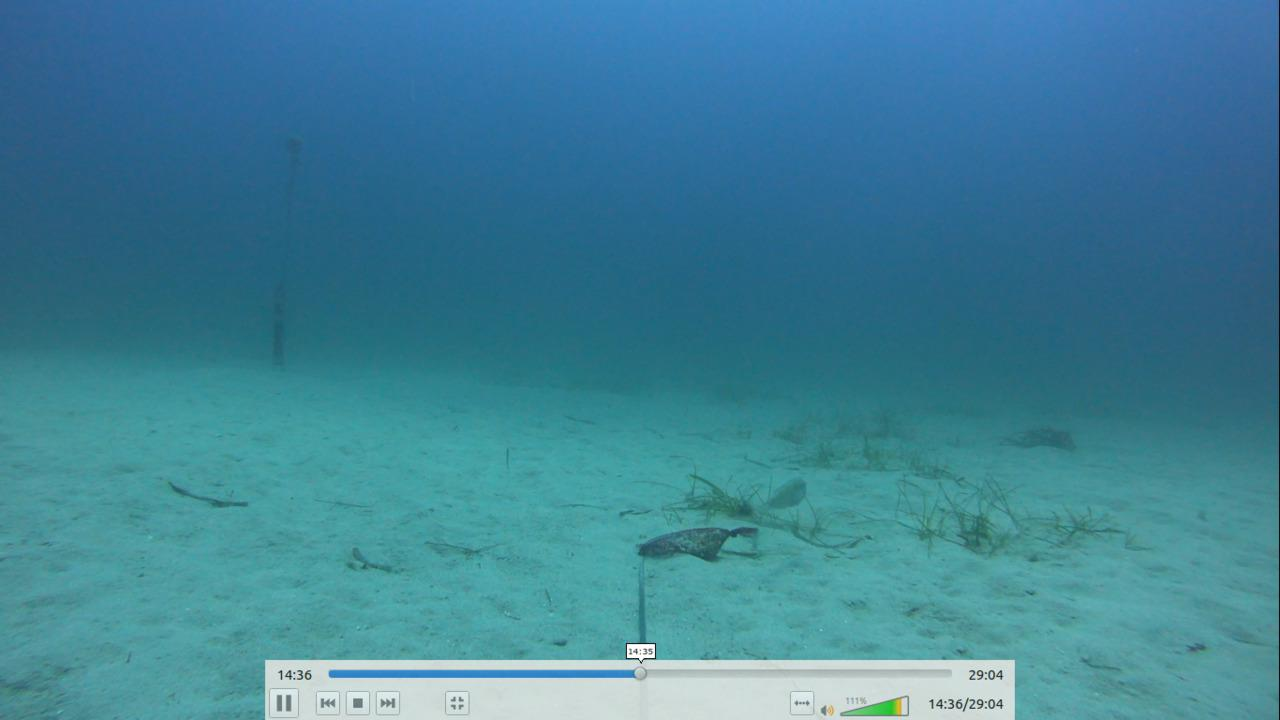raor: (759, 476, 807, 508)
